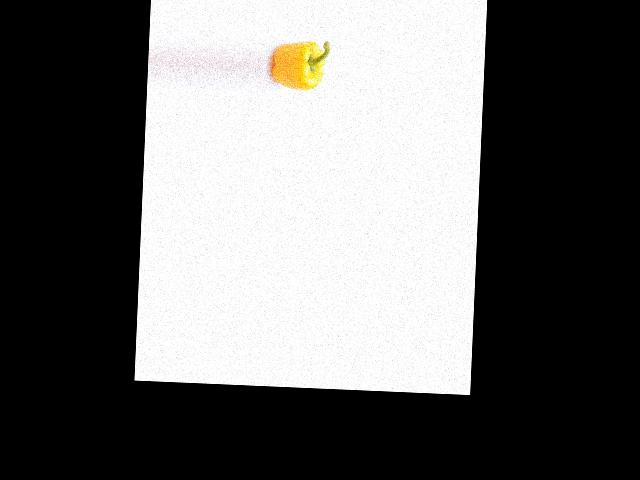bell_pepper: (270, 37, 328, 95)
